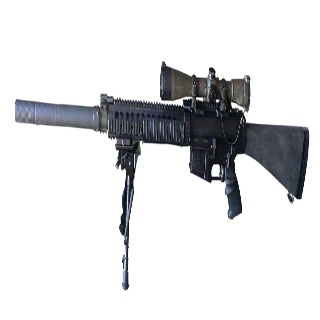rifle: (13, 59, 311, 221)
